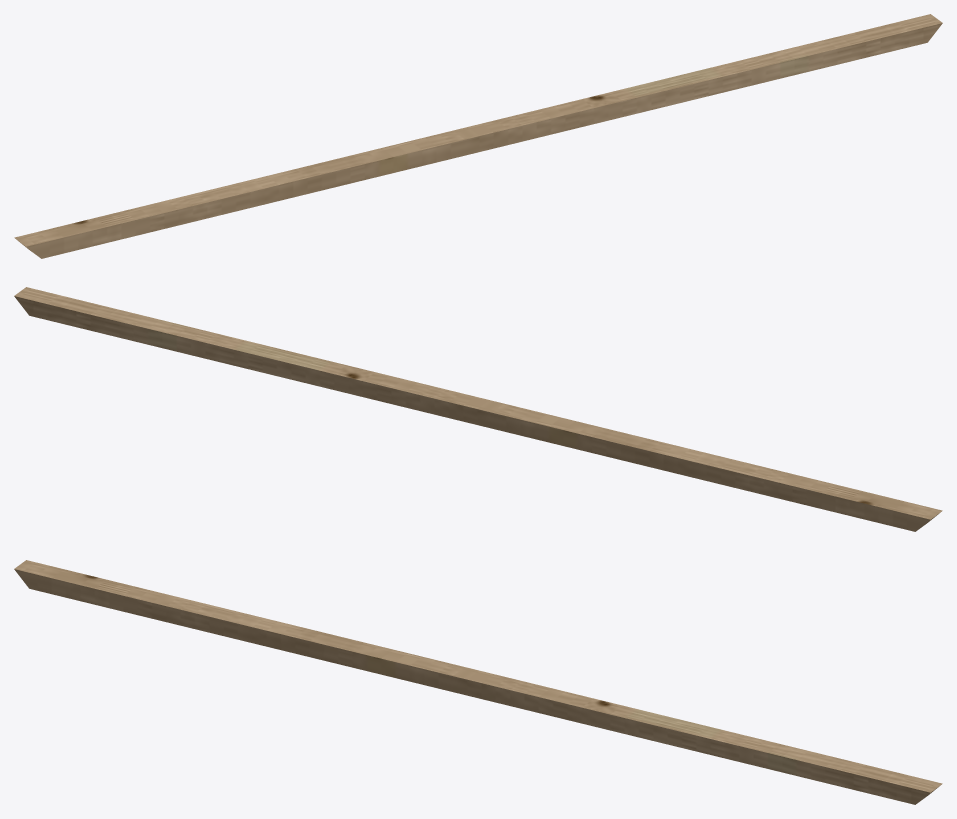
Rendered from Joglo_part_255.fbx.
The picture shows the model from 3 angles, top to bottom: view 1: azimuth 30°, elevation 25°; view 2: azimuth 150°, elevation 25°; view 3: azimuth 330°, elevation 25°; orthographic projection.
Parts seen in each view (by area): view 1: Mesh323_Wood___Pine_Grained_Horizontal_0.001; view 2: Mesh323_Wood___Pine_Grained_Horizontal_0.001; view 3: Mesh323_Wood___Pine_Grained_Horizontal_0.001.
Part boxes in pixels (x1,y1,x2,y2): Mesh323_Wood___Pine_Grained_Horizontal_0.001: (14,14,942,258); Mesh323_Wood___Pine_Grained_Horizontal_0.001: (14,287,942,531); Mesh323_Wood___Pine_Grained_Horizontal_0.001: (14,560,942,804).
Bounding box in the file's own units: 59.05 × 0.9842 × 1.38.
